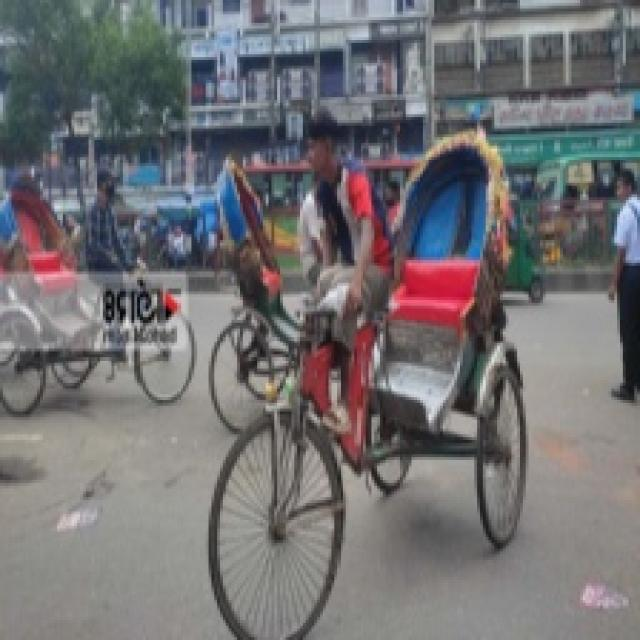rickshaw: (204, 138, 514, 607), (11, 165, 197, 401), (205, 146, 298, 418)
